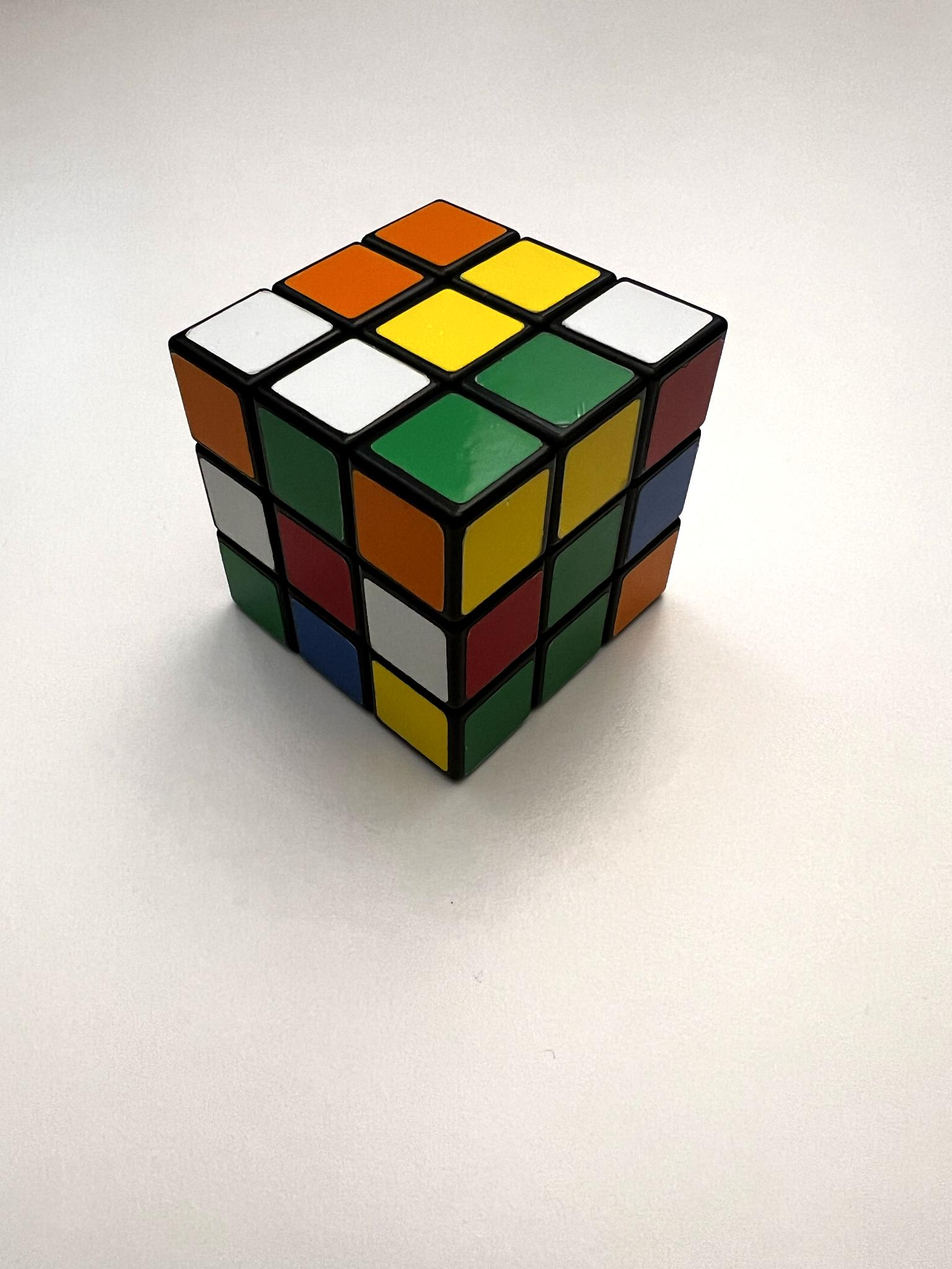rubiks_cube: (171, 201, 724, 773)
